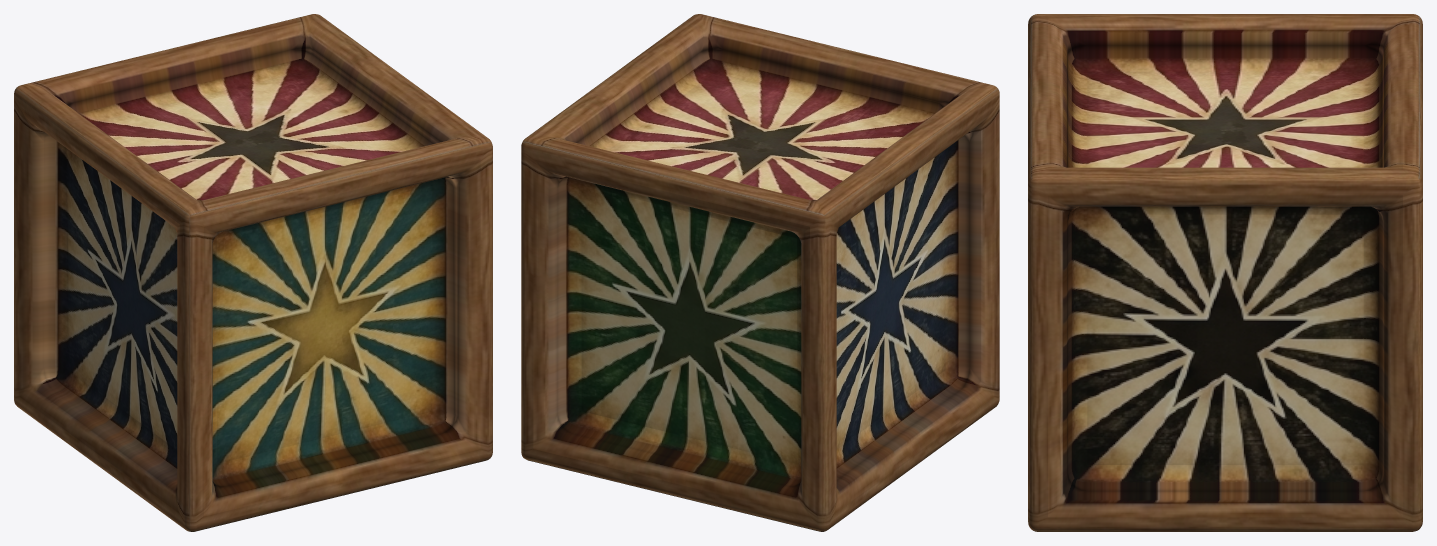
File: starbox ver 3.fbx
3 views of the same model, side by side, from view 1: azimuth 30°, elevation 25°; view 2: azimuth 150°, elevation 25°; view 3: azimuth 270°, elevation 25° (orthographic). The views are drawn at different scales.
Parts seen in each view (by area): view 1: Cube.001; view 2: Cube.001; view 3: Cube.001.
Part boxes in pixels (left/top/right/bottom): Cube.001: left=14, top=14, right=492, bottom=531; Cube.001: left=521, top=14, right=999, bottom=531; Cube.001: left=1028, top=14, right=1422, bottom=531.
Bounding box in the file's own units: 200 × 200 × 200.
